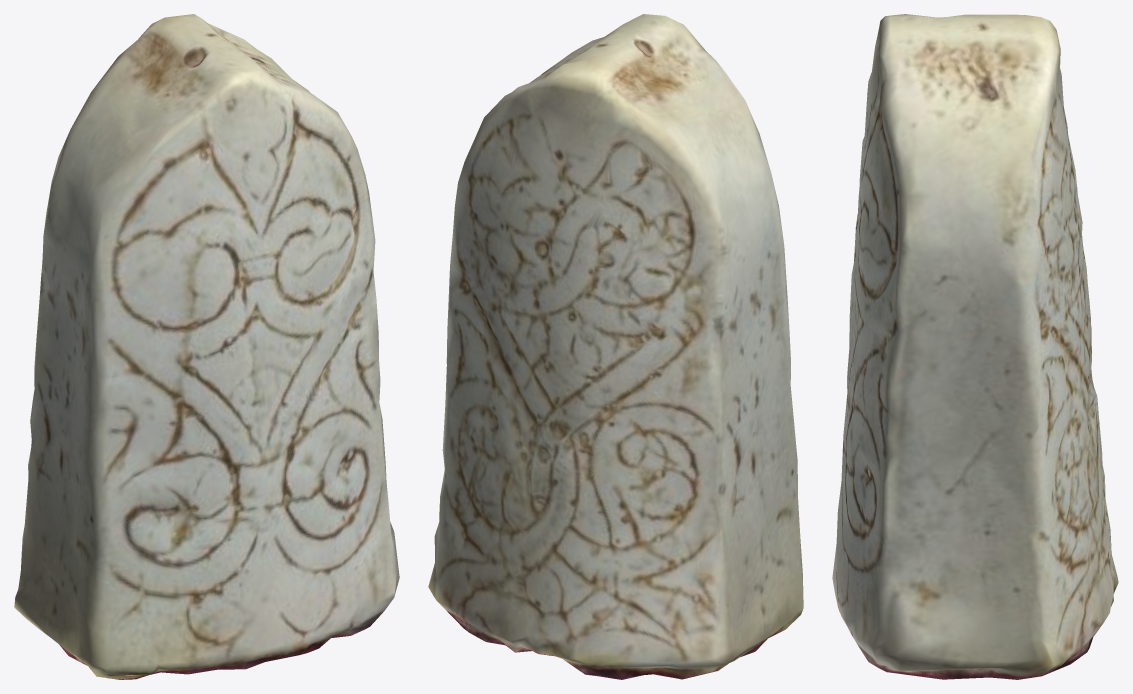
The model's file is lewis_p_w.glb.
3 renders of one model, left to right at view 1: azimuth 30°, elevation 25°; view 2: azimuth 150°, elevation 25°; view 3: azimuth 270°, elevation 25°, orthographic. The views are drawn at different scales.
Visible parts, largest first — view 1: Object_22; view 2: Object_22; view 3: Object_22.
Part boxes in pixels (x1,y1,x2,y2): Object_22: (14,14,399,679); Object_22: (428,14,803,679); Object_22: (832,14,1118,679).
Size of the model in its own units: 0.024 by 0.043 by 0.0187.
Materials: 1 (1 with a texture image).
